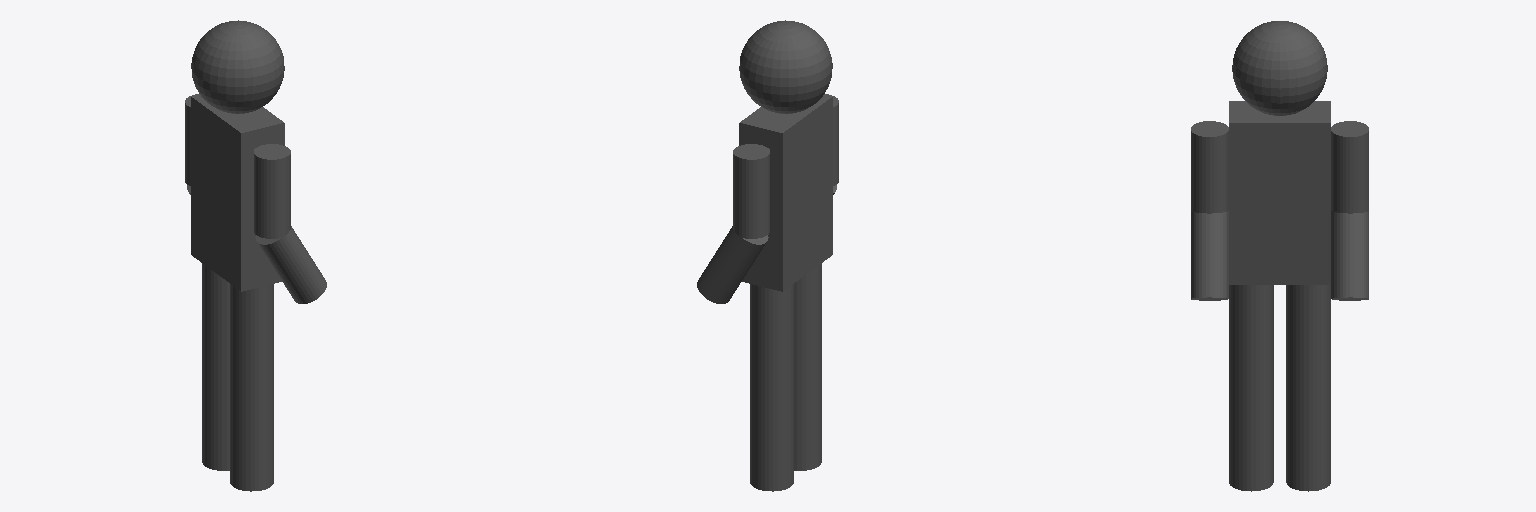
The robot description file, URDF, robot "person":
<?xml version="1.0" ?>
<!-- =================================================================================== -->
<!-- |    This document was autogenerated by xacro from persons/controllable_person.urdf.xacro | -->
<!-- |    EDITING THIS FILE BY HAND IS NOT RECOMMENDED                                 | -->
<!-- =================================================================================== -->
<robot name="person" xmlns:controller="http://playerstage.sourceforge.net/gazebo/xmlschema/#controller" xmlns:interface="http://playerstage.sourceforge.net/gazebo/xmlschema/#interface" xmlns:sensor="http://playerstage.sourceforge.net/gazebo/xmlschema/#sensor" xmlns:xacro="http://ros.org/wiki/xacro">
  <!-- Included URDF Files -->
  <material name="light_grey">
    <color rgba="0.7 0.7 0.7 1"/>
  </material>
  <material name="dark_grey">
    <color rgba="0.4 0.4 0.4 1"/>
  </material>
  <!-- Add the person -->
  <link name="base_footprint">
    <visual>
      <origin rpy="0 0 0" xyz="0 0 0"/>
      <geometry>
        <box size="0.001 0.001 0.001"/>
      </geometry>
    </visual>
  </link>
  <joint name="base_link_joint" type="fixed">
    <origin rpy="0 0 0" xyz="0.0 0 1.0"/>
    <parent link="base_footprint"/>
    <child link="base_link"/>
  </joint>
  <link name="base_link">
    <inertial>
      <mass value="0.01"/>
      <origin xyz="0 0 0"/>
      <inertia ixx="1.0" ixy="0.0" ixz="0.0" iyy="1.0" iyz="0.0" izz="1.0"/>
    </inertial>
    <visual>
      <geometry>
        <box size="0.16 0.32 0.56"/>
      </geometry>
      <material name="dark_grey"/>
    </visual>
    <collision>
      <origin xyz="0 0 -0.25"/>
      <geometry>
        <cylinder length="1.5" radius="0.15"/>
      </geometry>
    </collision>
  </link>
  <joint name="lidar_joint" type="fixed">
    <origin rpy="0 0 0" xyz="0.3 0 0"/>
    <parent link="base_link"/>
    <child link="lidar_link"/>
  </joint>
  <link name="lidar_link">
    <inertial>
      <mass value="0.001"/>
      <origin xyz="0 0 0"/>
      <inertia ixx="0.01" ixy="0.0" ixz="0.0" iyy="0.01" iyz="0.0" izz="0.01"/>
    </inertial>
  </link>
  <joint name="left_leg_joint" type="fixed">
    <origin rpy="0 0 0" xyz="0.0 0.09 -0.28"/>
    <parent link="base_link"/>
    <child link="left_leg_link"/>
  </joint>
  <link name="left_leg_link">
    <inertial>
      <mass value="0.01"/>
      <origin xyz="0 0 0"/>
      <inertia ixx="0.001" ixy="0.0" ixz="0.0" iyy="0.001" iyz="0.0" izz="0.001"/>
    </inertial>
    <visual>
      <origin xyz="0 0 -0.36"/>
      <geometry>
        <cylinder length="0.72" radius="0.07"/>
      </geometry>
      <material name="dark_grey"/>
    </visual>
  </link>
  <gazebo reference="left_leg_link">
    <mu1 value="100.0"/>
    <mu2 value="100.0"/>
    <kp value="1000000.0"/>
    <kd value="1.0"/>
  </gazebo>
  <joint name="right_leg_joint" type="fixed">
    <origin rpy="0 0 0" xyz="0.0 -0.09 -0.28"/>
    <parent link="base_link"/>
    <child link="right_leg_link"/>
  </joint>
  <link name="right_leg_link">
    <inertial>
      <mass value="0.01"/>
      <origin xyz="0 0 0"/>
      <inertia ixx="0.001" ixy="0.0" ixz="0.0" iyy="0.001" iyz="0.0" izz="0.001"/>
    </inertial>
    <visual>
      <origin xyz="0 0 -0.36"/>
      <geometry>
        <cylinder length="0.72" radius="0.07"/>
      </geometry>
      <material name="dark_grey"/>
    </visual>
  </link>
  <gazebo reference="right_leg_link">
    <mu1 value="100.0"/>
    <mu2 value="100.0"/>
    <kp value="1000000.0"/>
    <kd value="1.0"/>
  </gazebo>
  <joint name="head_joint" type="fixed">
    <origin rpy="0 0 0" xyz="0 0 0.43"/>
    <parent link="base_link"/>
    <child link="head_link"/>
  </joint>
  <link name="head_link">
    <inertial>
      <mass value="0.01"/>
      <origin xyz="0 0 0"/>
      <inertia ixx="0.001" ixy="0.0" ixz="0.0" iyy="0.001" iyz="0.0" izz="0.001"/>
    </inertial>
    <visual>
      <geometry>
        <sphere radius="0.15"/>
      </geometry>
      <material name="dark_grey"/>
    </visual>
  </link>
  <joint name="camera_joint" type="fixed">
    <origin rpy="0 0.523598775598 0" xyz="-1.0 0 0.5"/>
    <parent link="head_link"/>
    <child link="camera_link"/>
  </joint>
  <link name="camera_link">
    <inertial>
      <mass value="0.001"/>
      <origin xyz="0 0 0"/>
      <inertia ixx="0.001" ixy="0.0" ixz="0.0" iyy="0.001" iyz="0.0" izz="0.001"/>
    </inertial>
  </link>
  <joint name="camera_optical_joint" type="fixed">
    <origin rpy="-1.5707963268 0 -1.5707963268" xyz="0 0 0"/>
    <parent link="camera_link"/>
    <child link="camera_optical_link"/>
  </joint>
  <link name="camera_optical_link">
    <inertial>
      <mass value="0.001"/>
      <origin xyz="0 0 0"/>
      <inertia ixx="0.001" ixy="0.0" ixz="0.0" iyy="0.001" iyz="0.0" izz="0.001"/>
    </inertial>
  </link>
  <joint name="left_arm_joint" type="fixed">
    <origin rpy="0 3.14159265359 0" xyz="0 0.22 0.22"/>
    <parent link="base_link"/>
    <child link="left_arm_link"/>
  </joint>
  <link name="left_arm_link">
    <inertial>
      <mass value="0.01"/>
      <origin xyz="0 0 0"/>
      <inertia ixx="0.001" ixy="0.0" ixz="0.0" iyy="0.001" iyz="0.0" izz="0.001"/>
    </inertial>
    <visual>
      <origin xyz="0 0 0.14"/>
      <geometry>
        <cylinder length="0.28" radius="0.06"/>
      </geometry>
      <material name="dark_grey"/>
    </visual>
  </link>
  <joint name="left_forearm_joint" type="fixed">
    <origin rpy="0 -0.523598775598 0" xyz="0 0 0.28"/>
    <parent link="left_arm_link"/>
    <child link="left_forearm_link"/>
  </joint>
  <link name="left_forearm_link">
    <inertial>
      <mass value="0.01"/>
      <origin xyz="0 0 0"/>
      <inertia ixx="0.001" ixy="0.0" ixz="0.0" iyy="0.001" iyz="0.0" izz="0.001"/>
    </inertial>
    <visual>
      <origin xyz="0 0 0.14"/>
      <geometry>
        <cylinder length="0.28" radius="0.06"/>
      </geometry>
      <material name="dark_grey"/>
    </visual>
  </link>
  <joint name="right_arm_joint" type="fixed">
    <origin rpy="0 3.14159265359 0" xyz="0 -0.22 0.22"/>
    <parent link="base_link"/>
    <child link="right_arm_link"/>
  </joint>
  <link name="right_arm_link">
    <inertial>
      <mass value="0.01"/>
      <origin xyz="0 0 0"/>
      <inertia ixx="0.001" ixy="0.0" ixz="0.0" iyy="0.001" iyz="0.0" izz="0.001"/>
    </inertial>
    <visual>
      <origin xyz="0 0 0.14"/>
      <geometry>
        <cylinder length="0.28" radius="0.06"/>
      </geometry>
      <material name="dark_grey"/>
    </visual>
  </link>
  <joint name="right_forearm_joint" type="fixed">
    <origin rpy="0 -0.523598775598 0" xyz="0 0 0.28"/>
    <parent link="right_arm_link"/>
    <child link="right_forearm_link"/>
  </joint>
  <link name="right_forearm_link">
    <inertial>
      <mass value="0.01"/>
      <origin xyz="0 0 0"/>
      <inertia ixx="0.001" ixy="0.0" ixz="0.0" iyy="0.001" iyz="0.0" izz="0.001"/>
    </inertial>
    <visual>
      <origin xyz="0 0 0.14"/>
      <geometry>
        <cylinder length="0.28" radius="0.06"/>
      </geometry>
      <material name="dark_grey"/>
    </visual>
  </link>
  <gazebo>
    <controller:person_drive_plugin name="object_controller" plugin="libobject_controller_plugin.so">
      <alwaysOn>true</alwaysOn>
      <updateRate>50</updateRate>
      <topicName>cmd_vel</topicName>
      <mapTopic>map</mapTopic>
      <modelRadius>0.15</modelRadius>
      <modelPadding>0.025</modelPadding>
    </controller:person_drive_plugin>
    <!-- <xacro:gazebo_ros_controller_manager /> -->
  </gazebo>
  <!-- Add the generic camera to do obstacle avoidance -->
  <gazebo reference="camera_link">
    <sensor:camera name="camera_sensor">
      <imageFormat>R8G8B8</imageFormat>
      <imageSize>640 480</imageSize>
      <hfov>60</hfov>
      <nearClip>0.01</nearClip>
      <farClip>20</farClip>
      <updateRate>20.0</updateRate>
      <controller:gazebo_ros_camera name="camera_controller" plugin="libgazebo_ros_prosilica.so">
        <alwaysOn>true</alwaysOn>
        <updateRate>20.0</updateRate>
        <cameraName>camera</cameraName>
        <imageTopicName>rgb/image_raw</imageTopicName>
        <cameraInfoTopicName>rgb/camera_info</cameraInfoTopicName>
        <frameName>camera_link</frameName>
        <distortionK1>0.00000001</distortionK1>
        <distortionK2>0.00000001</distortionK2>
        <distortionK3>0.00000001</distortionK3>
        <distortionT1>0.00000001</distortionT1>
        <distortionT2>0.00000001</distortionT2>
        <interface:camera name="camera_iface"/>
      </controller:gazebo_ros_camera>
    </sensor:camera>
  </gazebo>
</robot>

--- What the picture shows (computed from the rendered views, not written in the file) ---
The picture shows the robot from 3 angles, left to right: view 1: azimuth 30°, elevation 25°; view 2: azimuth 150°, elevation 25°; view 3: azimuth 270°, elevation 25°; orthographic projection.
Robot: person — 12 links, 11 joints (11 fixed); root link base_footprint; default pose: all joints at 0.
Visible links, largest first — view 1: base_link, right_leg_link, head_link, left_leg_link, right_arm_link, right_forearm_link, left_arm_link; view 2: base_link, left_leg_link, head_link, right_leg_link, left_arm_link, left_forearm_link, right_arm_link; view 3: base_link, left_leg_link, right_leg_link, head_link, left_arm_link, right_arm_link, left_forearm_link, right_forearm_link.
Link boxes in pixels (left/top/right/bottom): base_link: left=191, top=95, right=284, bottom=291; right_leg_link: left=230, top=284, right=273, bottom=491; head_link: left=191, top=20, right=284, bottom=113; left_leg_link: left=202, top=263, right=229, bottom=470; right_arm_link: left=254, top=144, right=290, bottom=238; right_forearm_link: left=255, top=226, right=326, bottom=303; left_arm_link: left=185, top=94, right=199, bottom=185; base_link: left=739, top=95, right=832, bottom=291; left_leg_link: left=750, top=284, right=793, bottom=491; head_link: left=739, top=20, right=832, bottom=113; right_leg_link: left=794, top=263, right=821, bottom=470; left_arm_link: left=733, top=144, right=769, bottom=238; left_forearm_link: left=697, top=226, right=768, bottom=303; right_arm_link: left=824, top=94, right=838, bottom=185; base_link: left=1229, top=101, right=1330, bottom=284; left_leg_link: left=1286, top=285, right=1330, bottom=491; right_leg_link: left=1229, top=285, right=1273, bottom=491; head_link: left=1232, top=21, right=1327, bottom=115; left_arm_link: left=1331, top=121, right=1368, bottom=213; right_arm_link: left=1191, top=121, right=1228, bottom=213; left_forearm_link: left=1331, top=211, right=1368, bottom=300; right_forearm_link: left=1191, top=211, right=1228, bottom=300.
Bounding box of the posed robot: 0.342 × 0.56 × 1.58 m (x, y, z).
Geometry: primitives only (box / cylinder / sphere), no mesh files.
